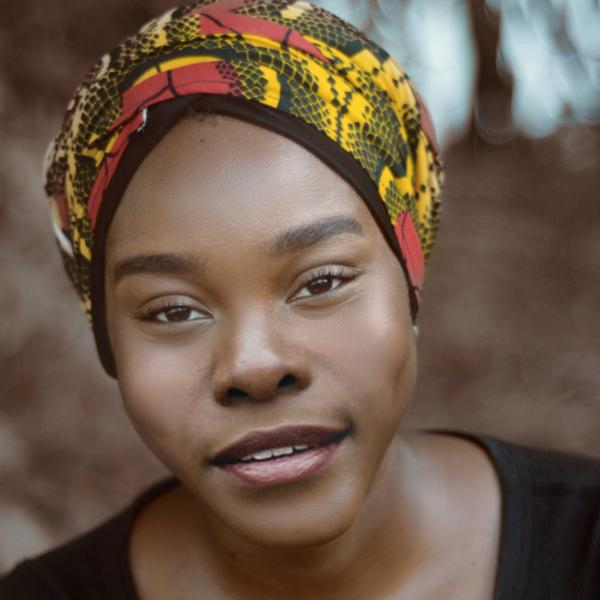Eyes: (122, 289, 226, 347), (277, 257, 365, 314)
